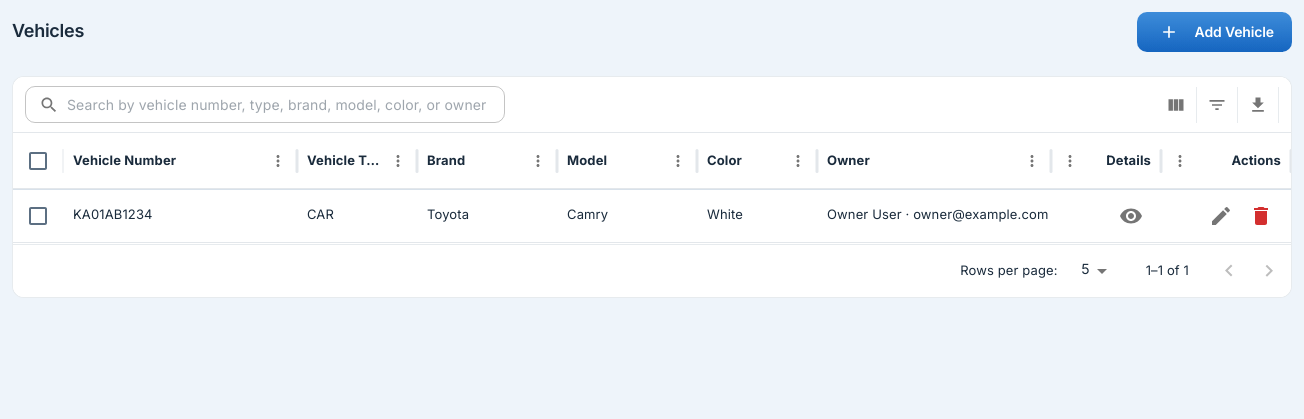
Test case: VehiclesPage › shows empty search state when no vehicles match
The width and height of the screenshot is (1304, 419).
expect the text "KA01AB1234" is shown: met, box [73,207,153,223]
Type "ZZZNOMATCH" into the field with placeholder "Search by vehicle number, type, brand, model, color, or owner".
click(286, 104); type("ZZZNOMATCH")  # box [67,86,505,123]
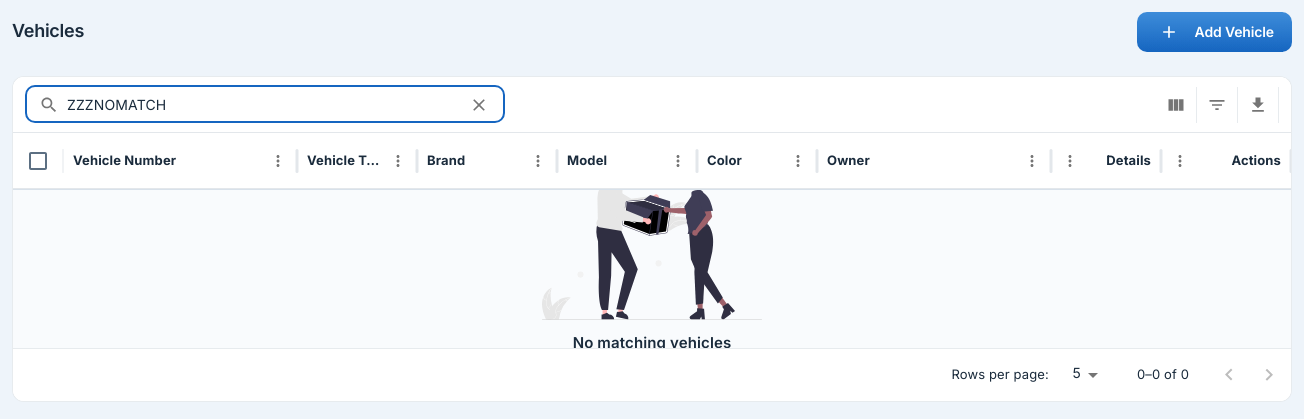
expect the heading "No matching vehicles" is shown: met, box [573,332,731,348]
expect the text "KA01AB1234" is gone: met
